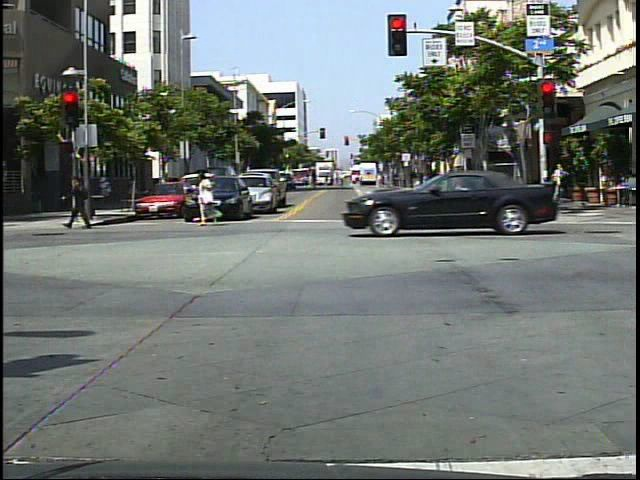person: (62, 169, 96, 235), (192, 168, 223, 232), (447, 165, 478, 224), (548, 160, 571, 211)
